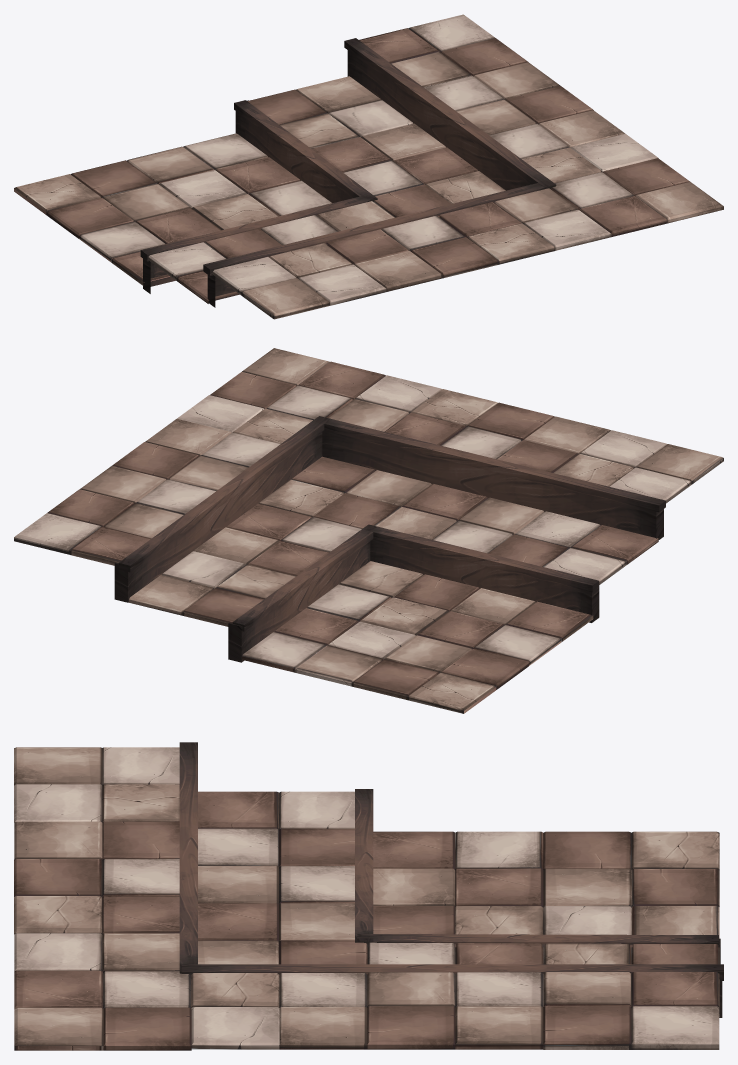
The model's file is Floor_2_Steps_Corner.fbx.
3 views of the same model, one above another, from view 1: azimuth 30°, elevation 25°; view 2: azimuth 150°, elevation 25°; view 3: azimuth 270°, elevation 25° (orthographic). The views are drawn at different scales.
Visible parts, largest first — view 1: Floor_Stairs_2_Corner; view 2: Floor_Stairs_2_Corner; view 3: Floor_Stairs_2_Corner.
Part boxes in pixels (x1=…): Floor_Stairs_2_Corner: x1=14, y1=14, x2=723, y2=319; Floor_Stairs_2_Corner: x1=14, y1=348, x2=723, y2=713; Floor_Stairs_2_Corner: x1=14, y1=742, x2=723, y2=1050.
Bounding box in the file's own units: 0.6052 × 0.0917 × 0.6056.
